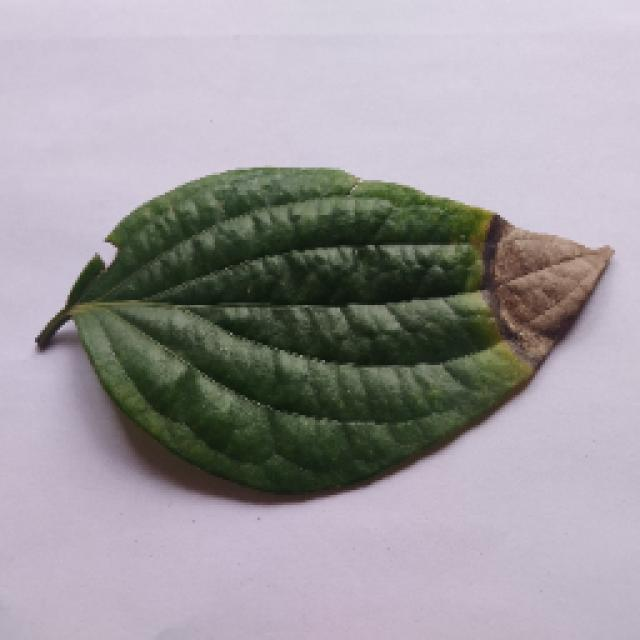footrot: (38, 168, 602, 490)
